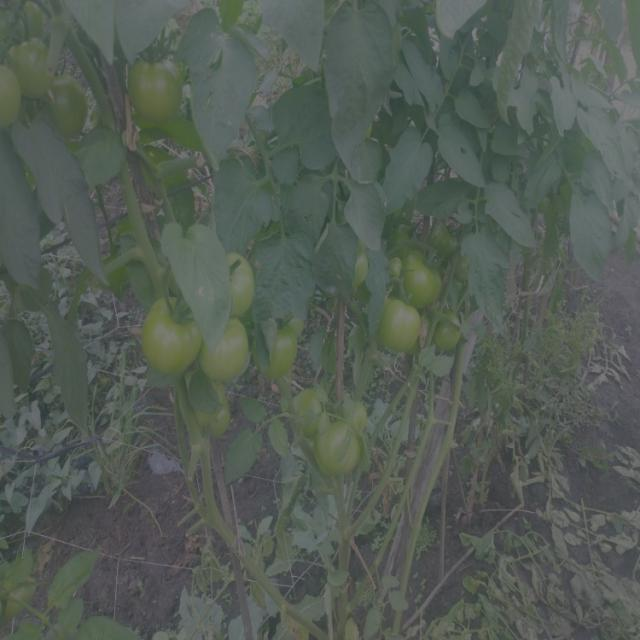tomato: (125, 34, 188, 125), (145, 282, 195, 368), (199, 316, 255, 387), (212, 250, 258, 318), (262, 316, 305, 386), (317, 418, 363, 481), (374, 296, 423, 350), (50, 78, 93, 135), (12, 37, 59, 85), (198, 388, 239, 440), (286, 385, 332, 428), (404, 251, 445, 299), (3, 64, 26, 130), (346, 242, 377, 286), (437, 315, 465, 357)
